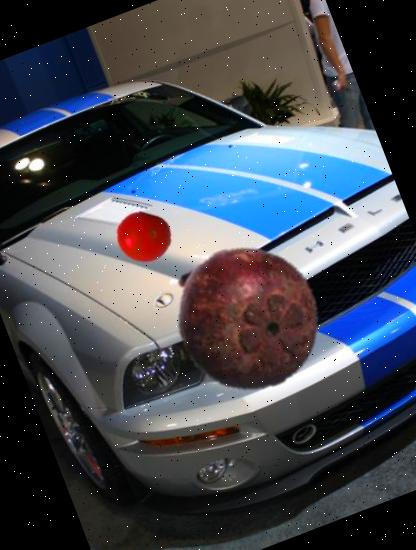Mangostan: (152, 223, 344, 414)
Tomato: (108, 201, 179, 272)
